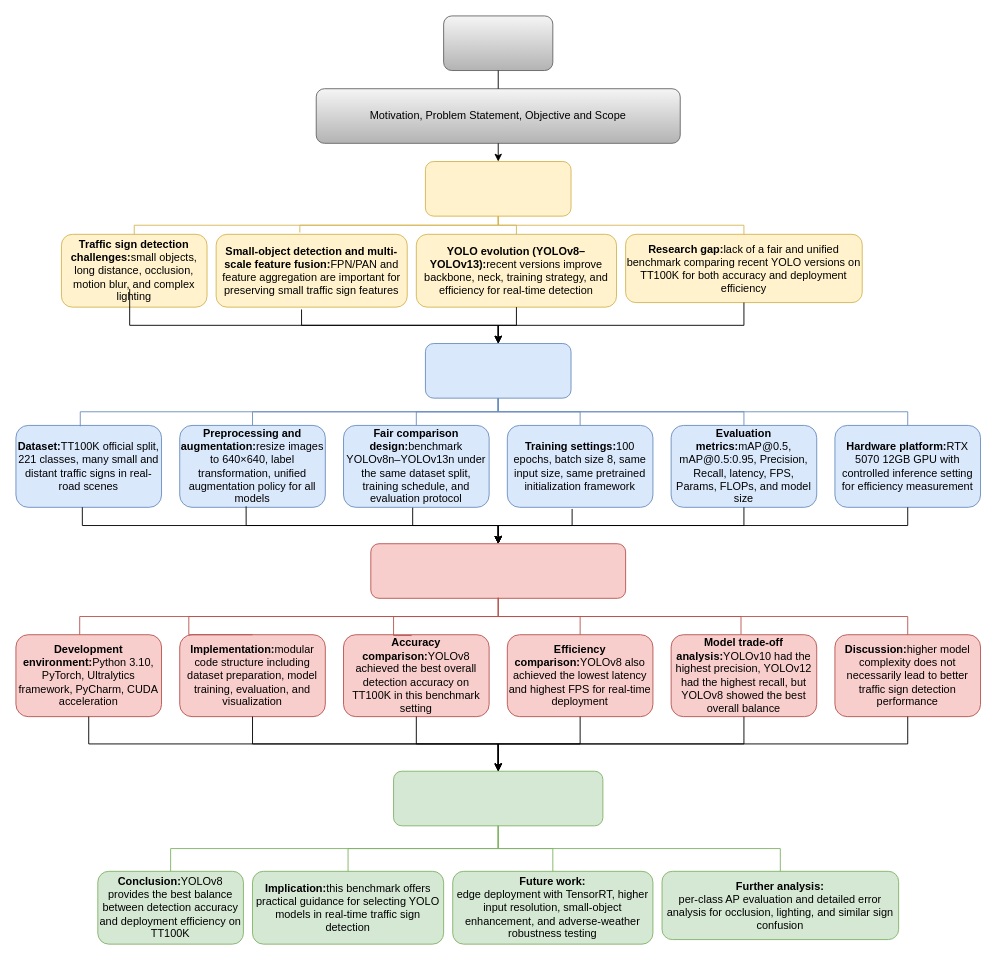
This 996x961 diagram has some shape labels left out. The shapes that lost their labels are listed below. From the top down, each one's centre as x and y in pixels, then its label:
At pixel 498 43: "Chapter1-Introduction".
At pixel 498 188: "Chapter2-Literature Review".
At pixel 498 370: "Chapter 3 – Methodology".
At pixel 498 570: "Chapter 4 – Implementation, Results & Discussion".
At pixel 498 798: "Chapter 5 – Conclusion & Future Work".
